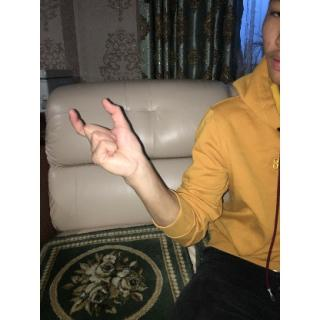NOON: (66, 95, 150, 180)
